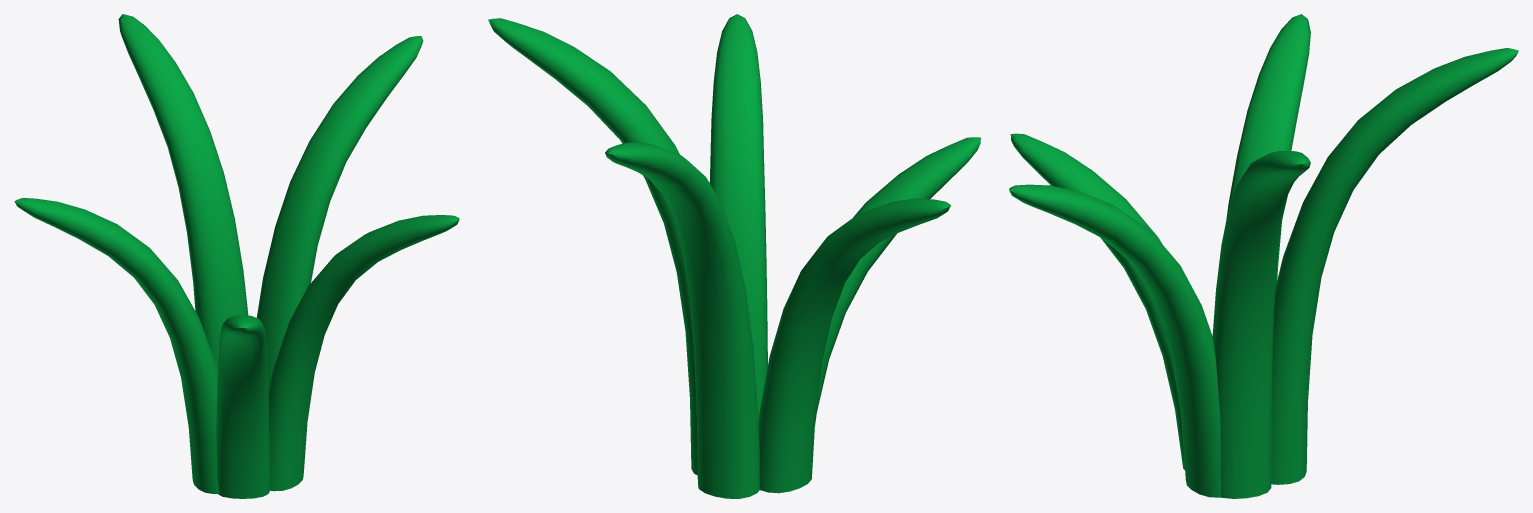
Rendered from Farm_18_Grass_3.glb.
3 views of the same model, side by side, from view 1: azimuth 30°, elevation 25°; view 2: azimuth 150°, elevation 25°; view 3: azimuth 270°, elevation 25° (orthographic). The views are drawn at different scales.
Visible parts, largest first — view 1: Farm_18_Grass_3; view 2: Farm_18_Grass_3; view 3: Farm_18_Grass_3.
Part boxes in pixels (<box>): Farm_18_Grass_3: <box>14,14,459,498</box>; Farm_18_Grass_3: <box>488,14,980,498</box>; Farm_18_Grass_3: <box>1009,14,1518,498</box>.
Size of the model in its own units: 0.704 by 0.618 by 0.6738.
Materials: 1 (1 with a texture image).
